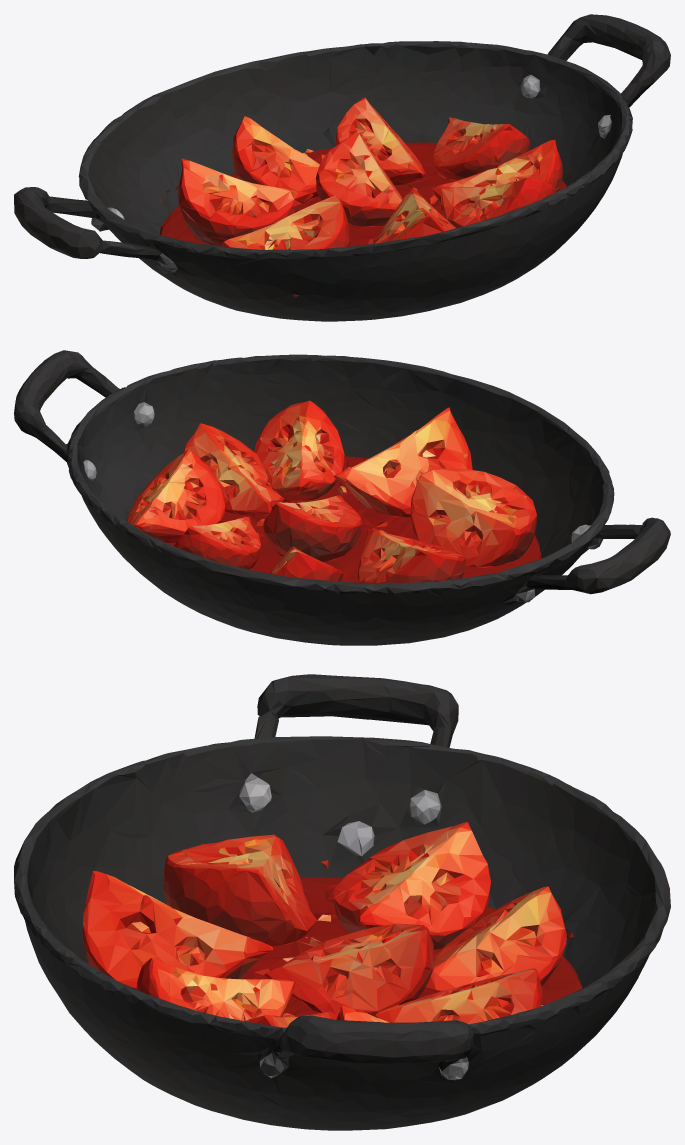
File: wok_tomato.glb
3 renders of one model, top to bottom at view 1: azimuth 30°, elevation 25°; view 2: azimuth 150°, elevation 25°; view 3: azimuth 270°, elevation 25°, orthographic. The views are drawn at different scales.
Visible parts, largest first — view 1: geometry_0; view 2: geometry_0; view 3: geometry_0.
Part boxes in pixels (x1,y1,x2,y2): geometry_0: [14, 14, 670, 321]; geometry_0: [14, 350, 670, 645]; geometry_0: [14, 674, 670, 1130].
Size of the model in its own units: 0.3 by 0.0712 by 0.2036.
Materials: 1 (1 with a texture image).
